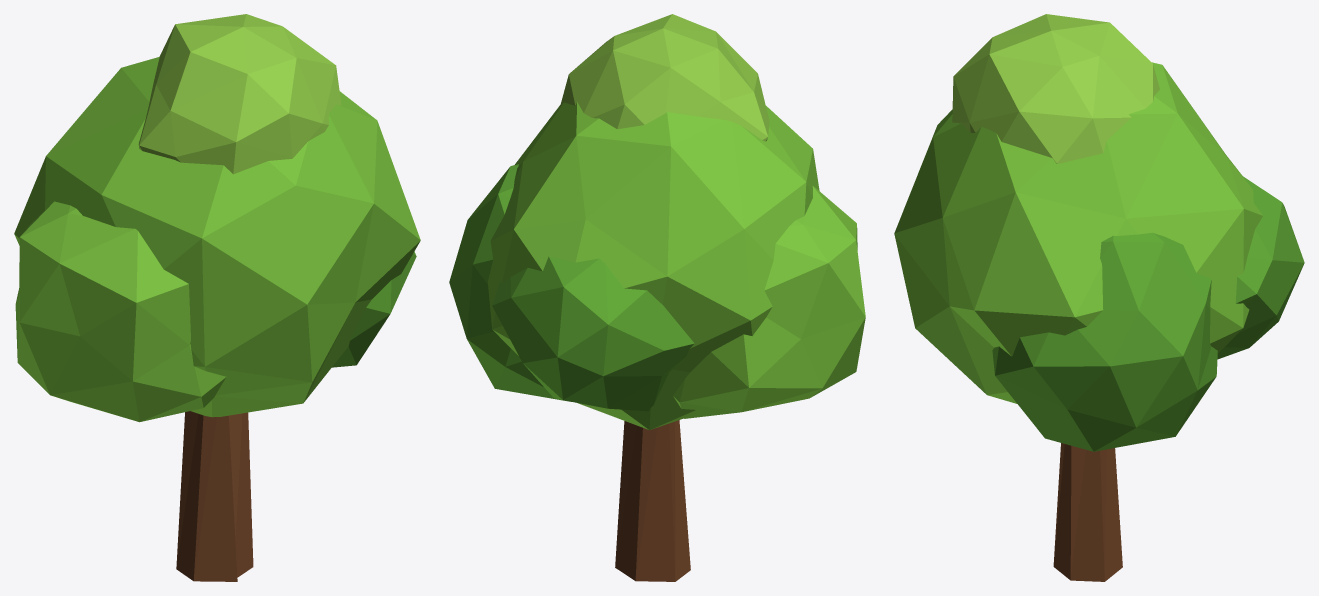
The model's file is arbol_redondo_v2.glb.
The picture shows the model from 3 angles, left to right: view 1: azimuth 30°, elevation 25°; view 2: azimuth 150°, elevation 25°; view 3: azimuth 270°, elevation 25°; orthographic projection. The views are drawn at different scales.
Visible parts, largest first — view 1: copa_1, copa_3, copa_4, tronco, copa_2; view 2: copa_1, copa_3, copa_5, copa_4, tronco, copa_2; view 3: copa_1, copa_2, copa_4, tronco, copa_5.
Part boxes in pixels (x1=…): copa_1: x1=14, y1=57, x2=420, y2=417; copa_3: x1=15, y1=201, x2=226, y2=422; copa_4: x1=138, y1=14, x2=341, y2=174; tronco: x1=176, y1=411, x2=253, y2=581; copa_2: x1=332, y1=251, x2=416, y2=367; copa_1: x1=488, y1=102, x2=819, y2=430; copa_3: x1=673, y1=186, x2=865, y2=418; copa_5: x1=492, y1=256, x2=694, y2=411; copa_4: x1=559, y1=14, x2=769, y2=141; tronco: x1=615, y1=420, x2=690, y2=581; copa_2: x1=449, y1=164, x2=571, y2=401; copa_1: x1=894, y1=62, x2=1262, y2=403; copa_2: x1=992, y1=232, x2=1217, y2=451; copa_4: x1=952, y1=14, x2=1159, y2=163; tronco: x1=1053, y1=443, x2=1122, y2=581; copa_5: x1=1217, y1=176, x2=1304, y2=359.
Bounding box in the file's own units: 4.15 × 5.48 × 3.78.
